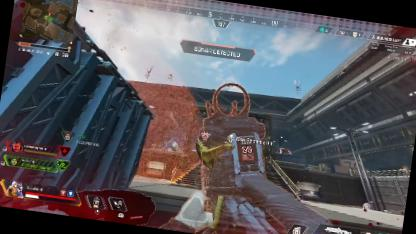Target: (166, 71, 174, 80)
